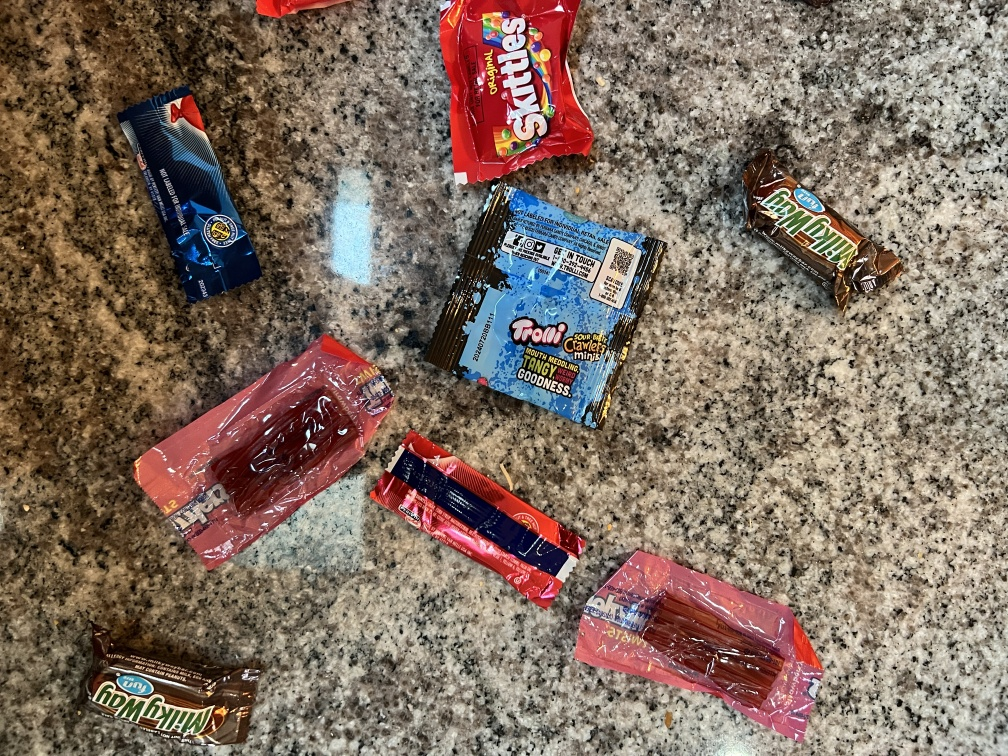airheads: (108, 79, 284, 293)
gummy_worms: (409, 182, 657, 421)
milky_way: (734, 139, 900, 322), (73, 615, 283, 754)
skittles: (428, 0, 625, 168), (249, 0, 389, 33)
starbust: (96, 330, 372, 573), (376, 417, 562, 622)
twizzlers: (572, 548, 822, 741)
